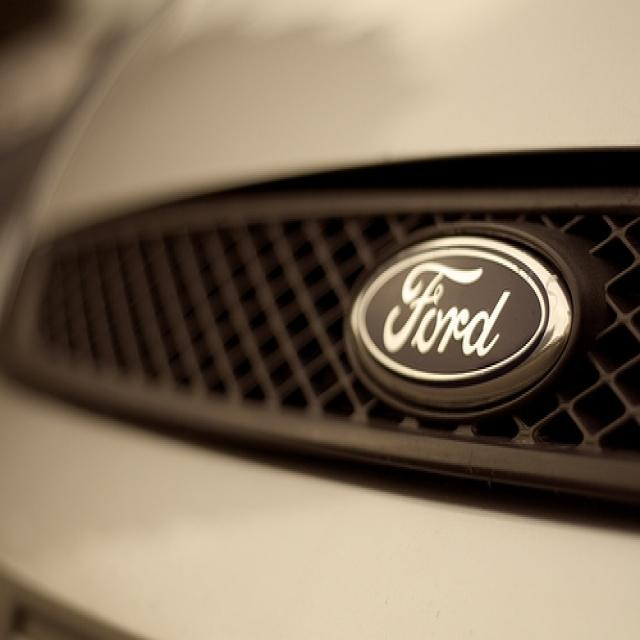ford: (351, 220, 575, 416)
